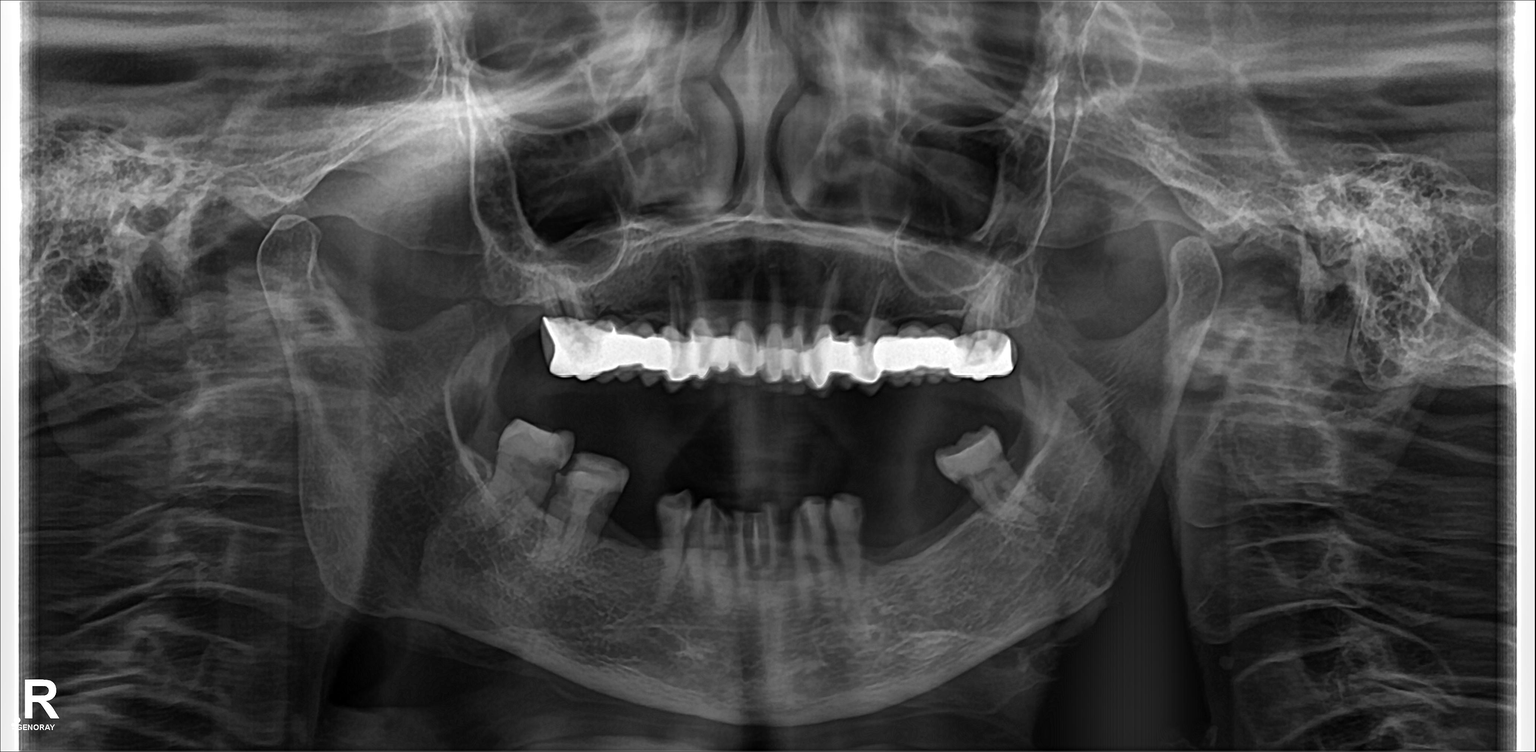Endodontically Treated Tooth: (536, 305, 1021, 383)
Impacted Third Molar: (944, 439, 1040, 512)
Missing Tooth: (903, 469, 965, 559), (860, 477, 903, 590), (622, 490, 663, 587)
